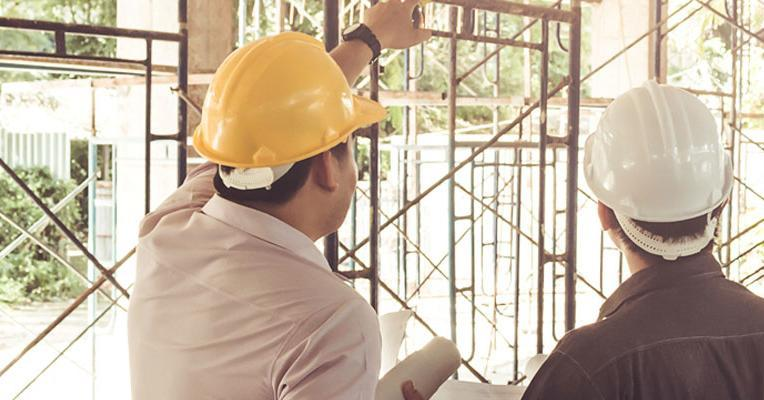helmet: (195, 35, 385, 170), (583, 82, 735, 217)
